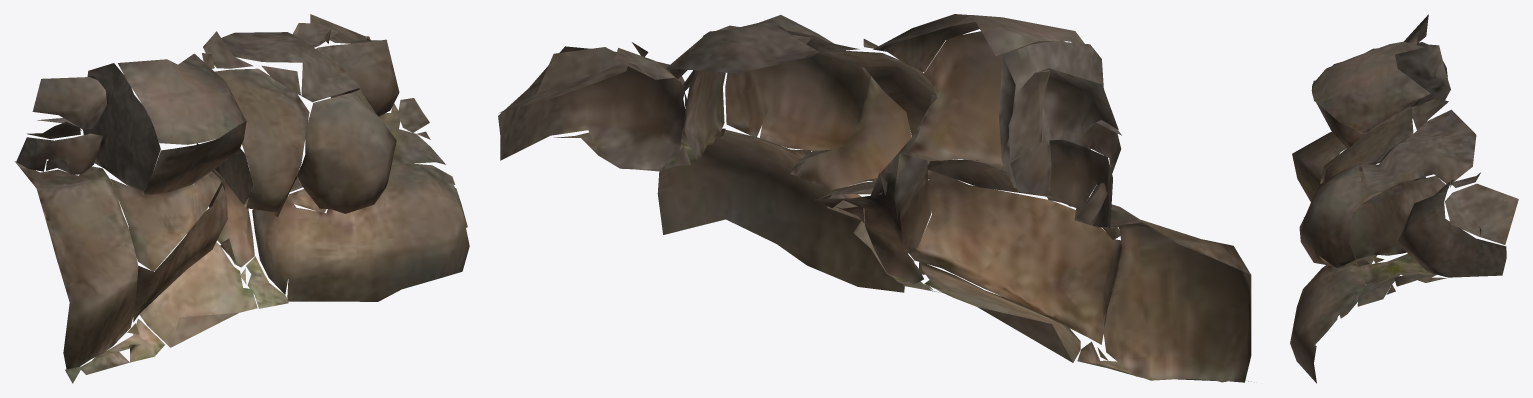
Rendered from namaqualand_cliff_01_lod2.glb.
3 renders of one model, left to right at view 1: azimuth 30°, elevation 25°; view 2: azimuth 150°, elevation 25°; view 3: azimuth 270°, elevation 25°, orthographic. The views are drawn at different scales.
Parts seen in each view (by area): view 1: drone_rock_01; view 2: drone_rock_01; view 3: drone_rock_01.
Boxes of the visible parts, left/top/right/bottom form: drone_rock_01: left=14, top=14, right=469, bottom=383; drone_rock_01: left=498, top=14, right=1251, bottom=382; drone_rock_01: left=1290, top=14, right=1518, bottom=383.
Bounding box in the file's own units: 8.27 × 4.91 × 4.42.
Materials: 1 (1 with a texture image).
